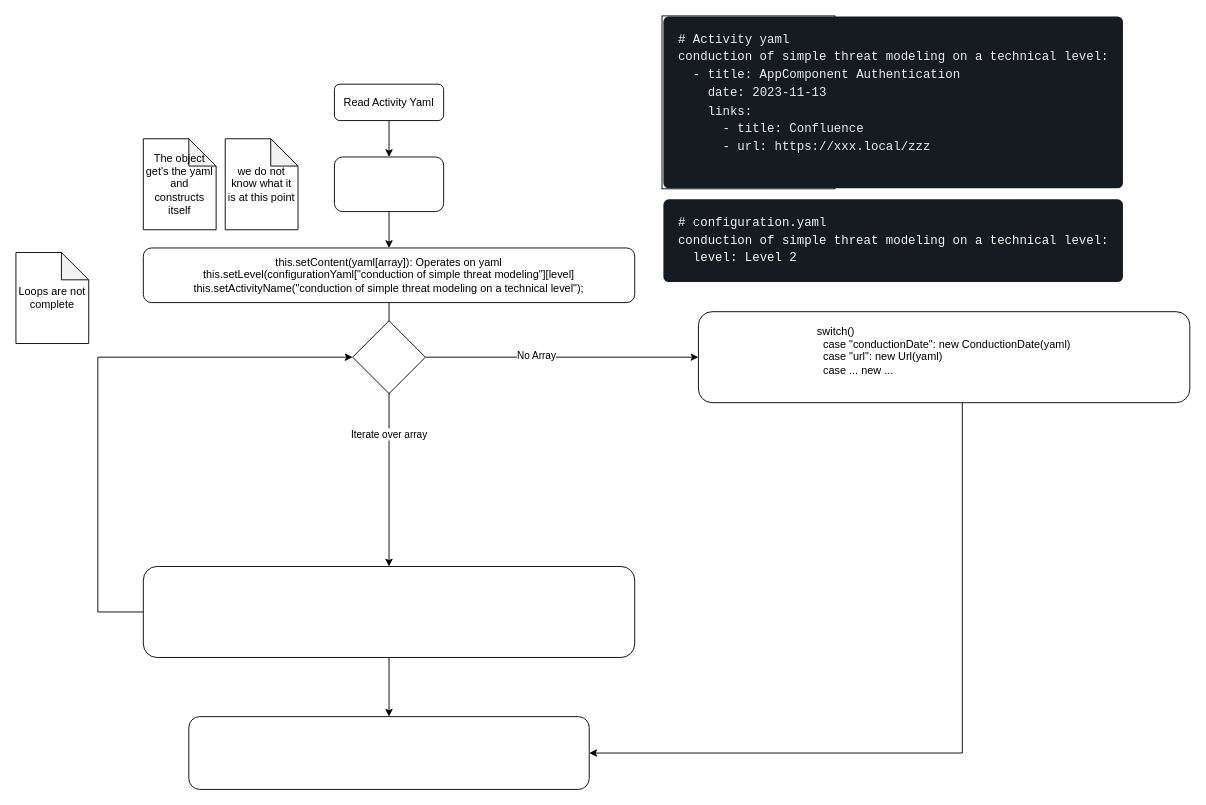
Image size: 1206x805. Some labels were removed from this diagram. Here are the shapes that lost their labels. From the top down, the box of each, then its label:
(334, 156, 444, 212): Activity activity = New Activity(yaml)
(352, 320, 425, 394): setContent-> isArray?
(142, 566, 635, 657): this.setContent(yaml[array][x])
(188, 716, 589, 789): End
